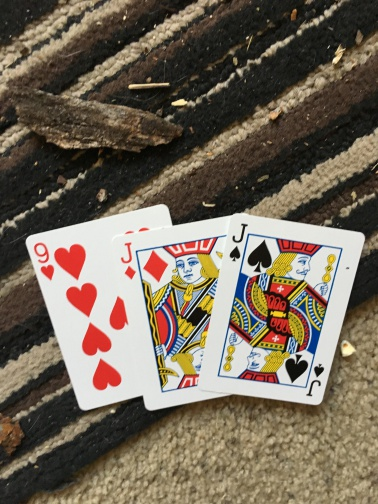jack: (200, 210, 362, 407), (114, 218, 228, 413)
nine: (20, 220, 126, 414)
